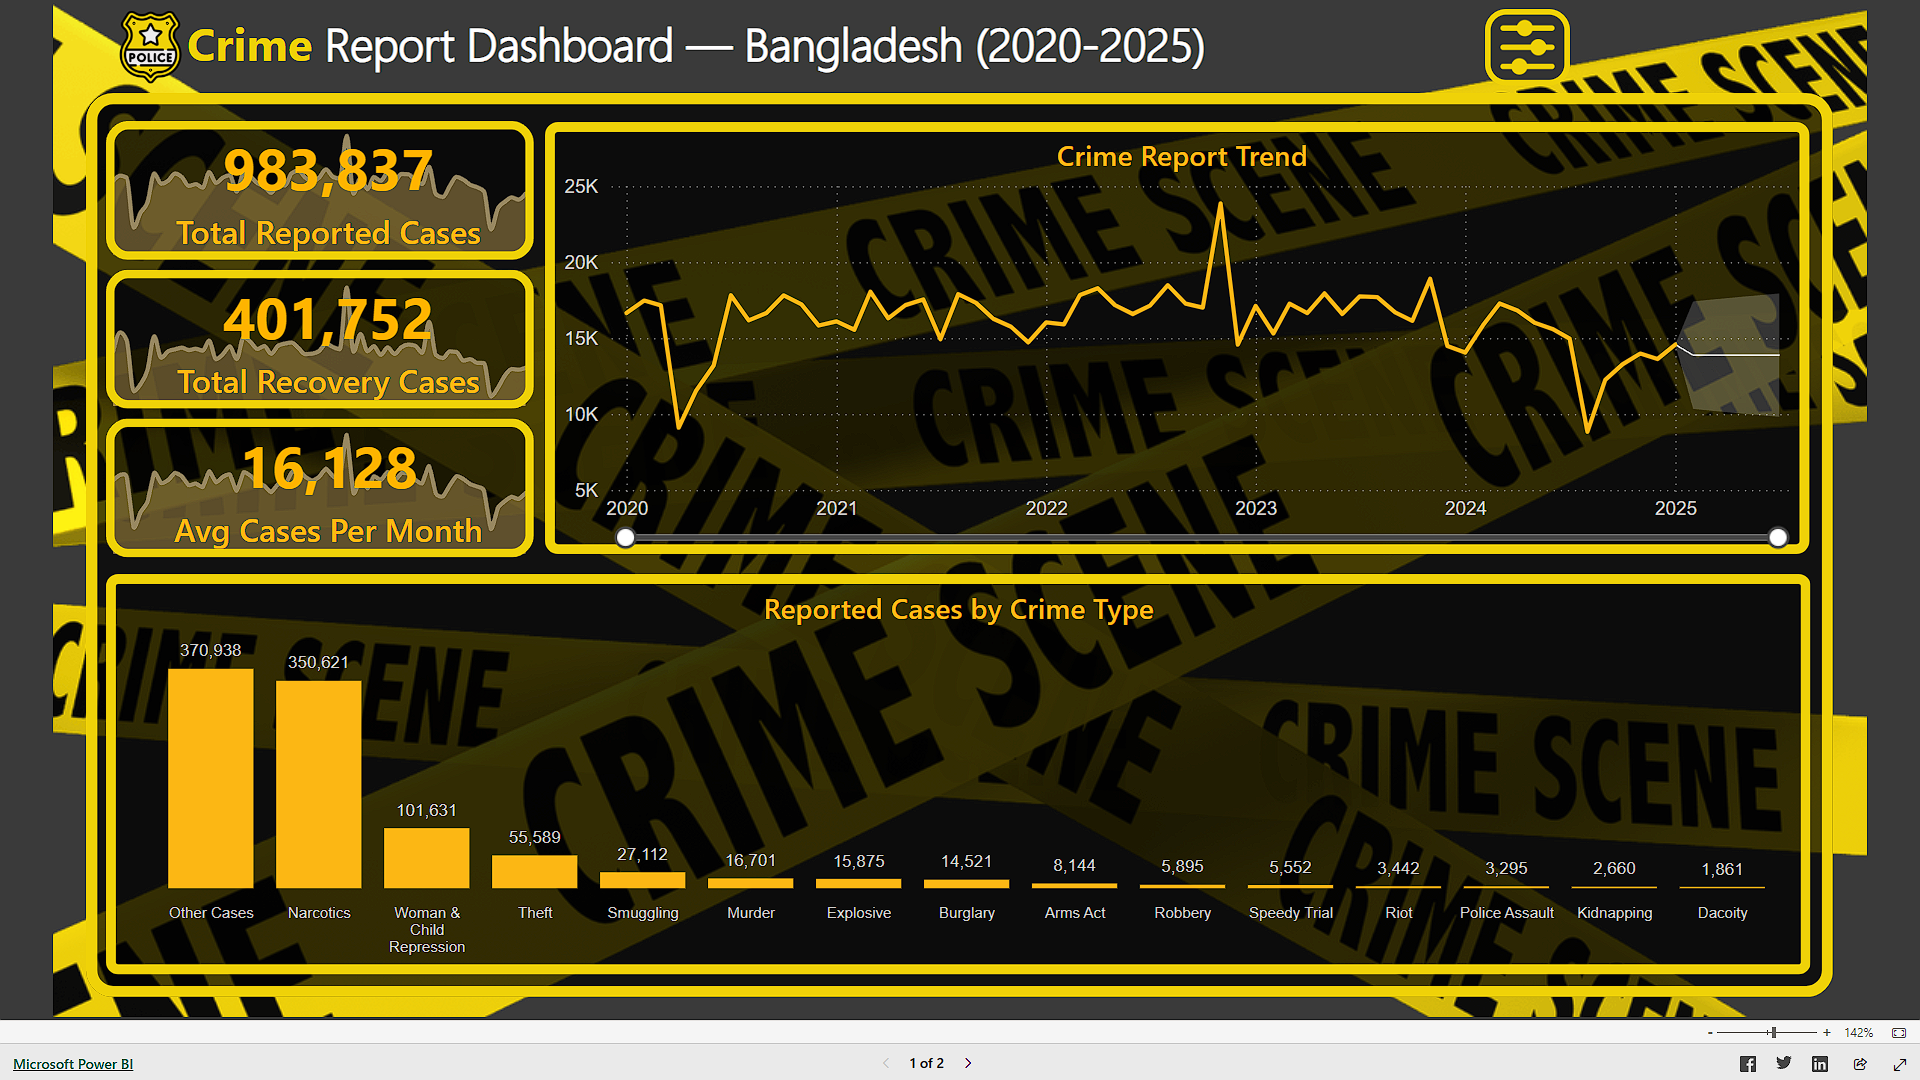

This screenshot's page, from the dashboard's own definition file:
{"tool":"powerbi","page":{"name":"Overview","canvas":[1280,720],"ordinal":0},"visuals":[{"type":"group","id":"g1","title":"Group 1","box":[89.5,2.5,740,57.3],"z":0,"group":"g2"},{"type":"textbox","box":[89.5,2.5,740,57.3],"z":0,"group":"g1"},{"type":"shape","box":[23.3,65.8,1233.3,638.3],"z":0},{"type":"image","box":[37.5,2.6,62.2,60.6],"z":1000,"group":"g2"},{"type":"areaChart","fields":{"Category":["Date Table.Start of Month.Variation.Date Hierarchy.Year","Date Table.Start of Month.Variation.Date Hierarchy.Quarter","Date Table.Start of Month.Variation.Date Hierarchy.Month","Date Table.Start of Month.Variation.Date Hierarchy.Day"],"Y":["_Measure.Reported Cases"]},"box":[32.6,82.1,311.1,97.9],"z":1000},{"type":"areaChart","fields":{"Category":["Date Table.Start of Month.Variation.Date Hierarchy.Year","Date Table.Start of Month.Variation.Date Hierarchy.Quarter","Date Table.Start of Month.Variation.Date Hierarchy.Month","Date Table.Start of Month.Variation.Date Hierarchy.Day"],"Y":["_Measure.Recovery Cases"]},"box":[32.6,191.1,311.1,96.3],"z":2000},{"type":"areaChart","fields":{"Category":["Date Table.Start of Month.Variation.Date Hierarchy.Year","Date Table.Start of Month.Variation.Date Hierarchy.Quarter","Date Table.Start of Month.Variation.Date Hierarchy.Month","Date Table.Start of Month.Variation.Date Hierarchy.Day"],"Y":["_Measure.Avg Cases Per Month"]},"box":[32.6,292.6,311.1,98.4],"z":3000},{"type":"cardVisual","fields":{"Data":["_Measure.Reported Cases","_Measure.Recovery Cases","_Measure.Avg Cases Per Month"]},"box":[37.3,85.5,302.7,310.9],"z":4000},{"type":"shape","box":[347.5,85.8,892.5,305],"z":5000},{"type":"lineChart","title":"Crime Report Trend","fields":{"Category":["Date Table.Start of Month.Variation.Date Hierarchy.Year","Date Table.Start of Month.Variation.Date Hierarchy.Quarter","Date Table.Start of Month.Variation.Date Hierarchy.Month","Date Table.Start of Month.Variation.Date Hierarchy.Day"],"Y":["_Measure.Reported Cases"]},"box":[355.5,85.5,882.7,305.5],"z":6000},{"type":"shape","box":[37.5,405,1203.3,282.5],"z":7000},{"type":"columnChart","title":"Reported Cases by Crime Type","fields":{"Category":["Crime Statistics Of Bangladesh 2020-25.Crime Type"],"Y":["_Measure.Reported Cases"]},"box":[32.3,404.7,1200.8,272.3],"z":7500},{"type":"image","box":[1010.9,6.4,60,53.6],"z":8000},{"type":"group","id":"g2","title":"Group 3","box":[37.5,2.5,792.5,60.8],"z":9000}]}

Visuals, with their boxes on the page's 1280x720 design canvas (x1, y1, x2, y2). These are canvas units, not pixel positions in the 1920x1080 screenshot, which may show the page scaled, cropped or inside an application window:
"Group 1" group: bbox=(90, 2, 830, 60)
textbox: bbox=(90, 2, 830, 60)
shape: bbox=(23, 66, 1257, 704)
image: bbox=(38, 3, 100, 63)
areaChart - Date Table.Start of Month.Variation.Date Hierarchy.Year x Date Table.Start of Month.Variation.Date Hierarchy.Quarter: bbox=(33, 82, 344, 180)
areaChart - Date Table.Start of Month.Variation.Date Hierarchy.Year x Date Table.Start of Month.Variation.Date Hierarchy.Quarter: bbox=(33, 191, 344, 287)
areaChart - Date Table.Start of Month.Variation.Date Hierarchy.Year x Date Table.Start of Month.Variation.Date Hierarchy.Quarter: bbox=(33, 293, 344, 391)
cardVisual - _Measure.Reported Cases x _Measure.Recovery Cases: bbox=(37, 86, 340, 396)
shape: bbox=(348, 86, 1240, 391)
"Crime Report Trend" lineChart: bbox=(356, 86, 1238, 391)
shape: bbox=(38, 405, 1241, 688)
"Reported Cases by Crime Type" columnChart: bbox=(32, 405, 1233, 677)
image: bbox=(1011, 6, 1071, 60)
"Group 3" group: bbox=(38, 2, 830, 63)
